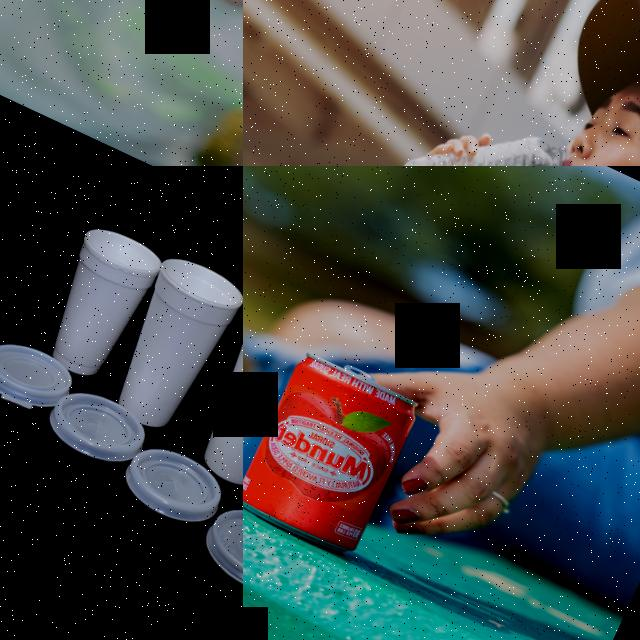bottle: (383, 84, 582, 166)
can: (243, 347, 424, 562)
cup: (97, 251, 243, 440), (28, 220, 168, 388), (176, 290, 243, 500)
